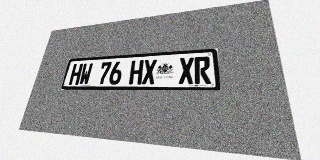6: (108, 61, 123, 85)
7: (97, 62, 112, 85)
H: (129, 60, 144, 85), (68, 63, 83, 85)
R: (194, 56, 211, 84)
W: (78, 63, 93, 85)
X: (179, 57, 194, 84), (142, 59, 157, 84)
